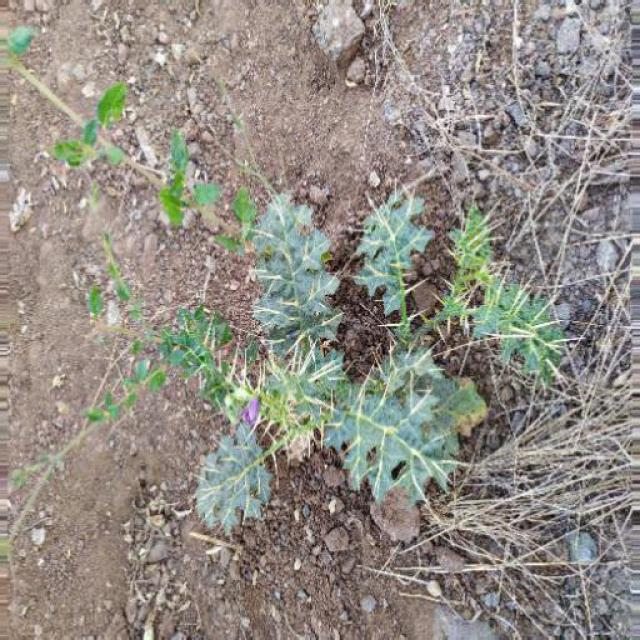weed: (196, 187, 582, 548)
